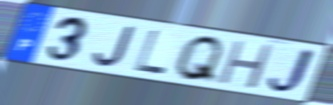3: (43, 14, 91, 64)
H: (215, 38, 277, 91)
J: (264, 46, 319, 96), (92, 24, 138, 68)
L: (132, 28, 168, 77)
Q: (173, 34, 227, 86)
